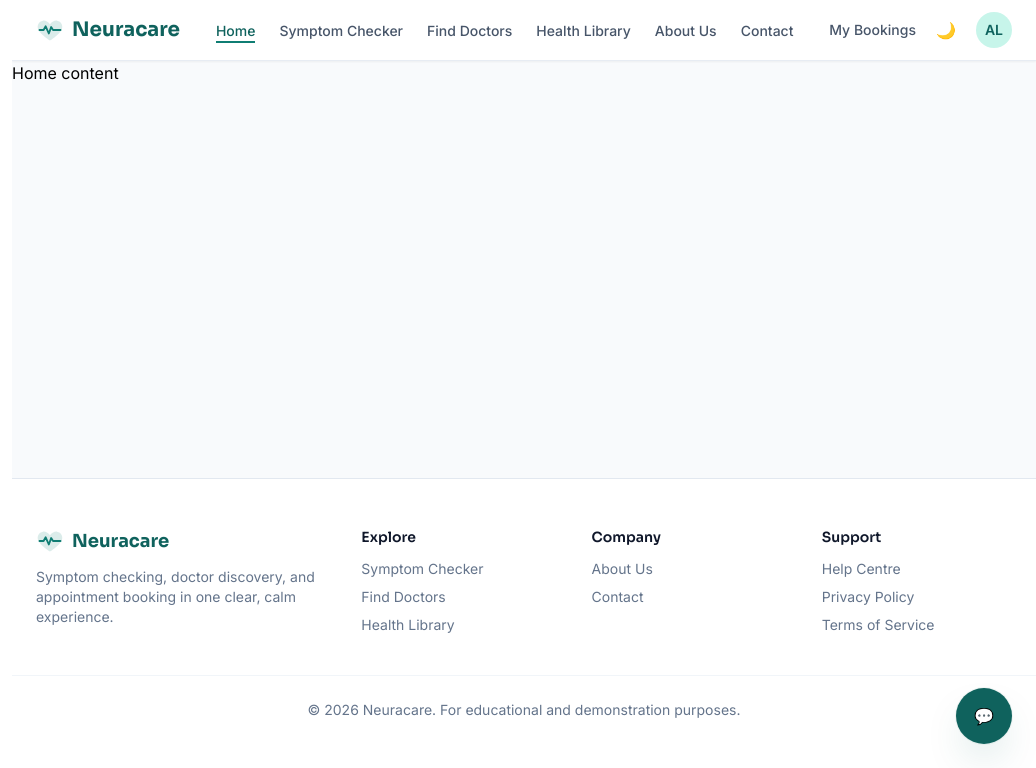
it: Layout › when authenticated › closes the account dropdown on escape
Click the button with aria-label "account menu" at coordinates (994, 30), box [976,12,1012,48]
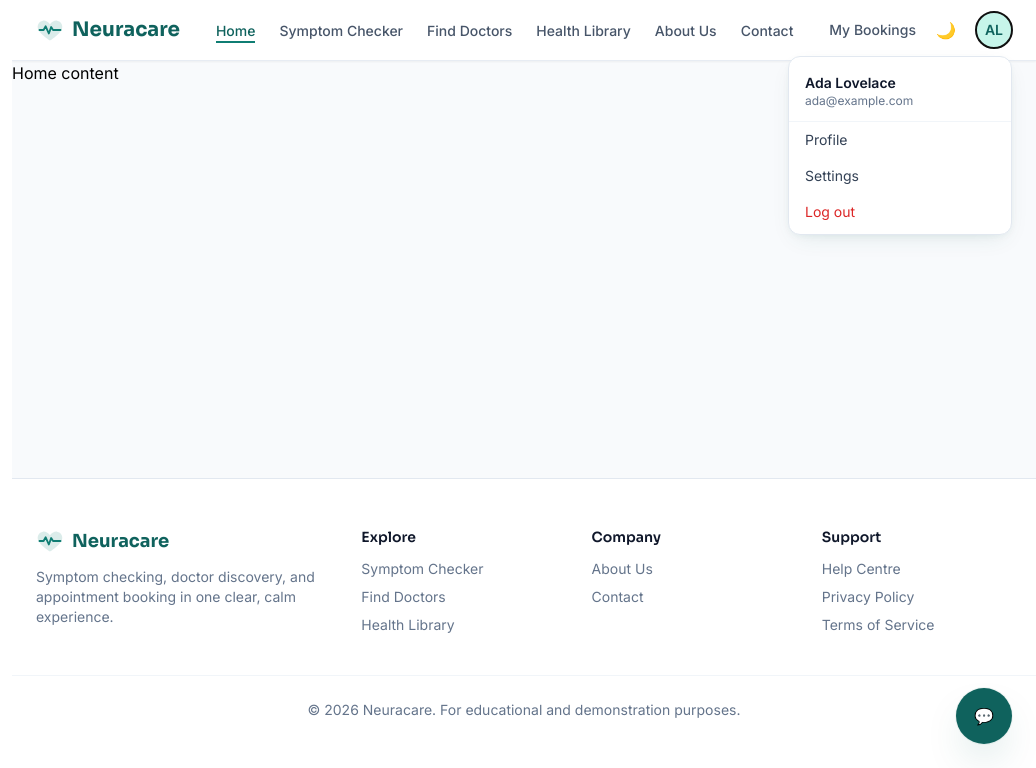
Expected: the menu named "account" is shown, [788,56,1012,235]
Press Escape
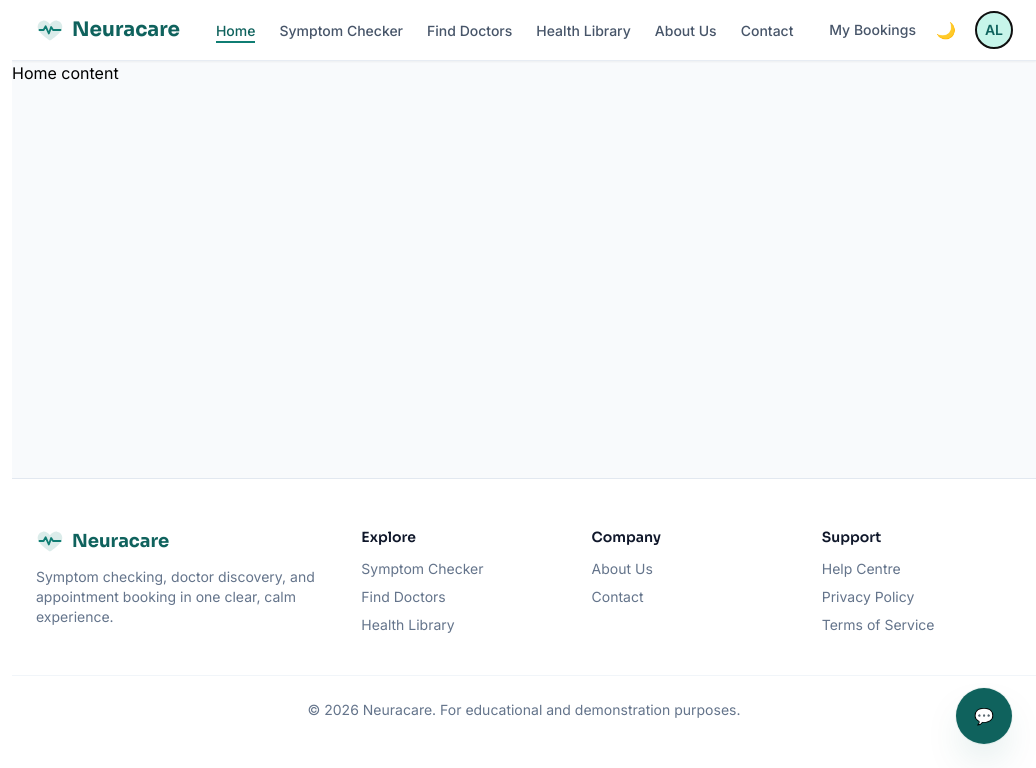
Expected: the menu "account" is gone
